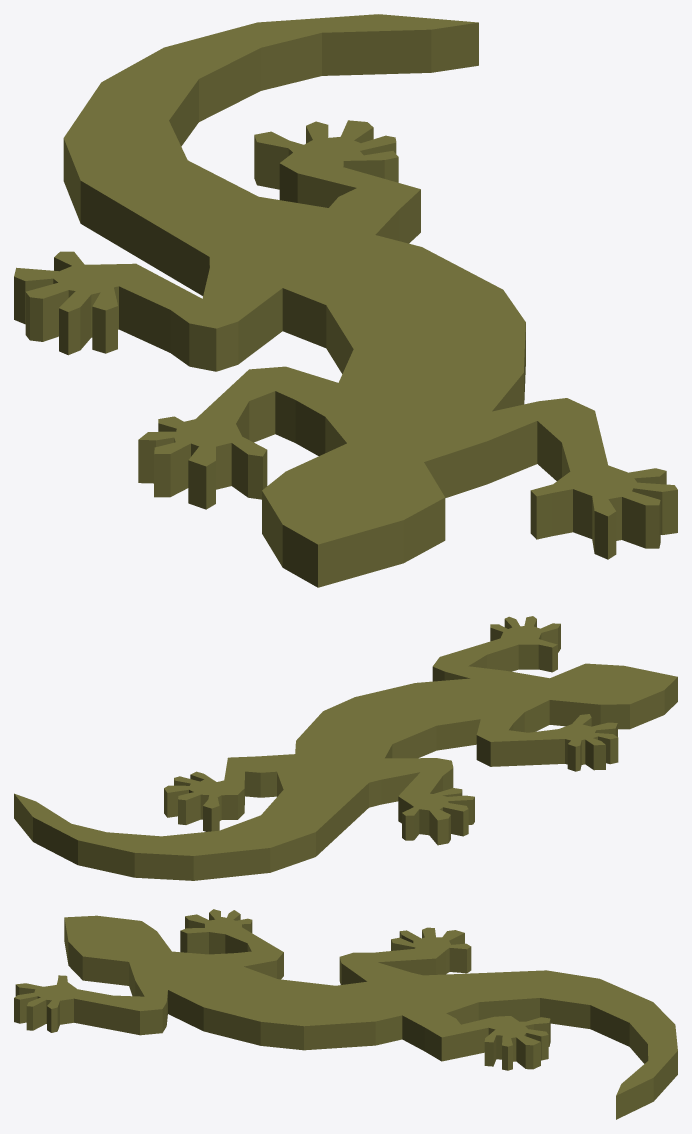
Rendered from pest_gecko.glb.
3 renders of one model, top to bottom at view 1: azimuth 30°, elevation 25°; view 2: azimuth 150°, elevation 25°; view 3: azimuth 270°, elevation 25°, orthographic. The views are drawn at different scales.
Visible parts, largest first — view 1: Gecko.001; view 2: Gecko.001; view 3: Gecko.001.
Part boxes in pixels (x1=…): Gecko.001: x1=14, y1=14, x2=677, y2=587; Gecko.001: x1=14, y1=616, x2=677, y2=880; Gecko.001: x1=14, y1=909, x2=677, y2=1119.
Bounding box in the file's own units: 0.5193 × 0.0313 × 0.7806.
